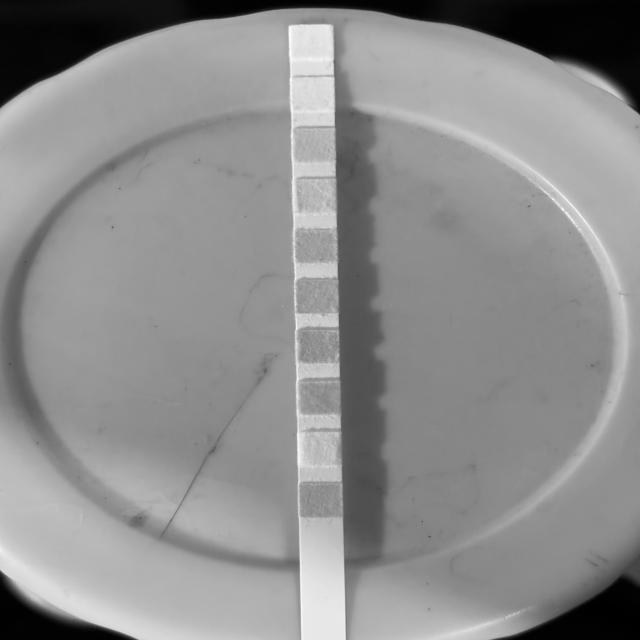Bilirubin: (298, 433, 341, 465)
Blood: (296, 281, 339, 312)
Glucose: (300, 484, 342, 515)
Ketone: (298, 382, 341, 413)
Leukocytes: (291, 27, 333, 58)
Nitrite: (292, 78, 335, 110)
Protein: (294, 180, 336, 212)
SpGravity: (297, 330, 339, 361)
Urobilinogen: (293, 131, 335, 162)
background: (0, 0, 640, 640)
pH: (294, 230, 337, 261)
strip: (291, 26, 345, 602)
